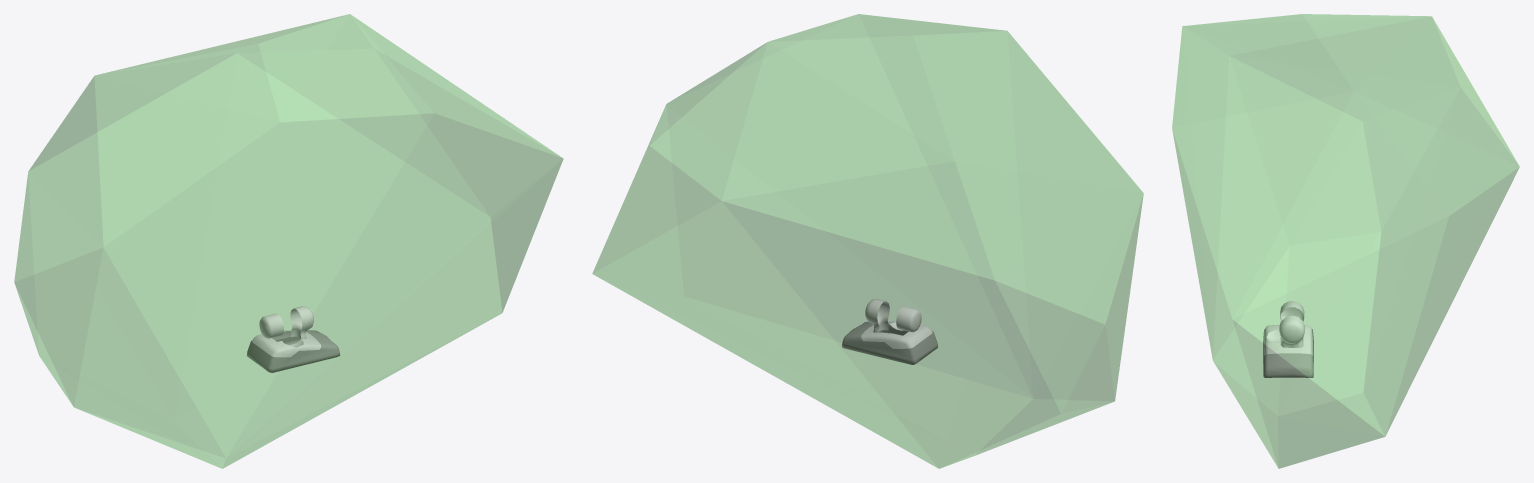
File: RLEG_LINK5_Kinematics.dae
3 renders of one model, left to right at view 1: azimuth 30°, elevation 25°; view 2: azimuth 150°, elevation 25°; view 3: azimuth 270°, elevation 25°, orthographic. The views are drawn at different scales.
Visible parts, largest first — view 1: foo_004, ShapeIndexedFaceS_037, ShapeIndexedFaceS_034, ShapeIndexedFaceS_035; view 2: foo_004, ShapeIndexedFaceS_037, ShapeIndexedFaceS_034, ShapeIndexedFaceS_035; view 3: foo_004, ShapeIndexedFaceS_037, ShapeIndexedFaceS_034, ShapeIndexedFaceS_035, ShapeIndexedFaceS_036.
Boxes of the visible parts, bbox=[...] form: foo_004: bbox=[14, 14, 563, 468]; ShapeIndexedFaceS_037: bbox=[247, 330, 340, 372]; ShapeIndexedFaceS_034: bbox=[251, 330, 321, 357]; ShapeIndexedFaceS_035: bbox=[290, 306, 313, 338]; foo_004: bbox=[592, 14, 1143, 468]; ShapeIndexedFaceS_037: bbox=[842, 321, 937, 364]; ShapeIndexedFaceS_034: bbox=[861, 321, 932, 348]; ShapeIndexedFaceS_035: bbox=[865, 299, 889, 332]; foo_004: bbox=[1172, 14, 1519, 468]; ShapeIndexedFaceS_037: bbox=[1263, 329, 1313, 377]; ShapeIndexedFaceS_034: bbox=[1263, 324, 1312, 355]; ShapeIndexedFaceS_035: bbox=[1279, 315, 1304, 347]; ShapeIndexedFaceS_036: bbox=[1280, 301, 1304, 321].
Bounding box in the file's own units: 1.61 × 0.9423 × 1.28.
